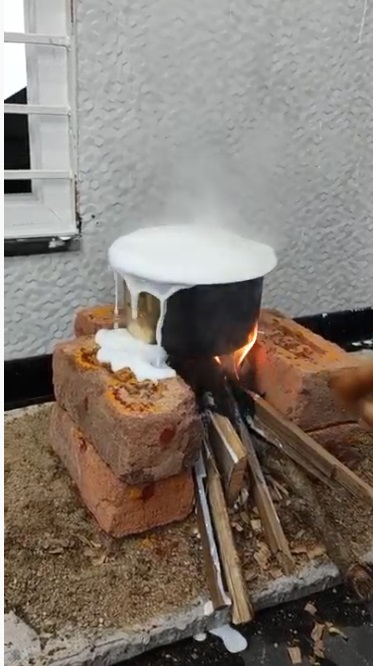Boiled: (84, 213, 293, 410)
